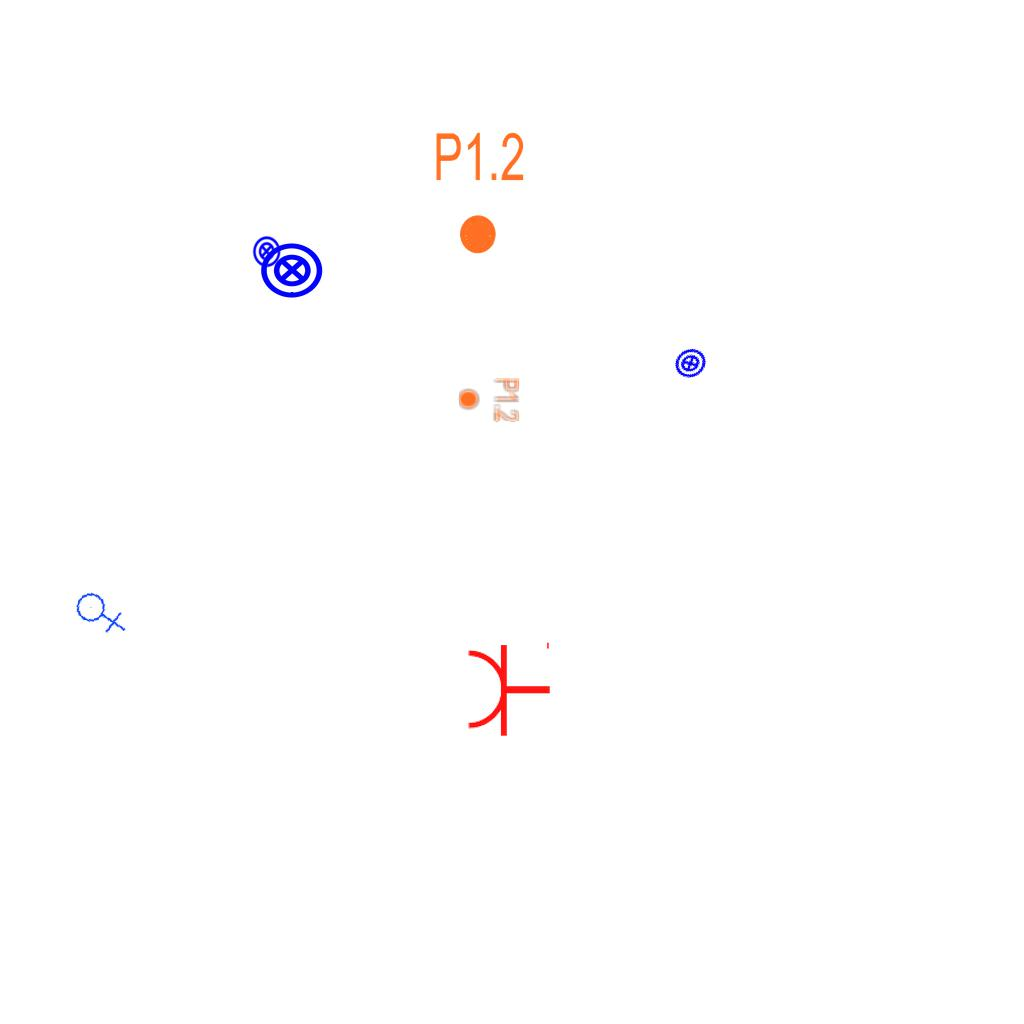Downlight_LED_Einbauleuchten_Flur: (433, 129, 526, 257), (457, 377, 521, 423)
Elektroanschluss_allgemein_230V_Geraeteanschlussdose_230V: (72, 582, 129, 641)
Schukosteckdose_einfach: (465, 638, 552, 738)
Taster_beleuchtet: (259, 237, 325, 303), (668, 341, 713, 386), (250, 235, 283, 268)
